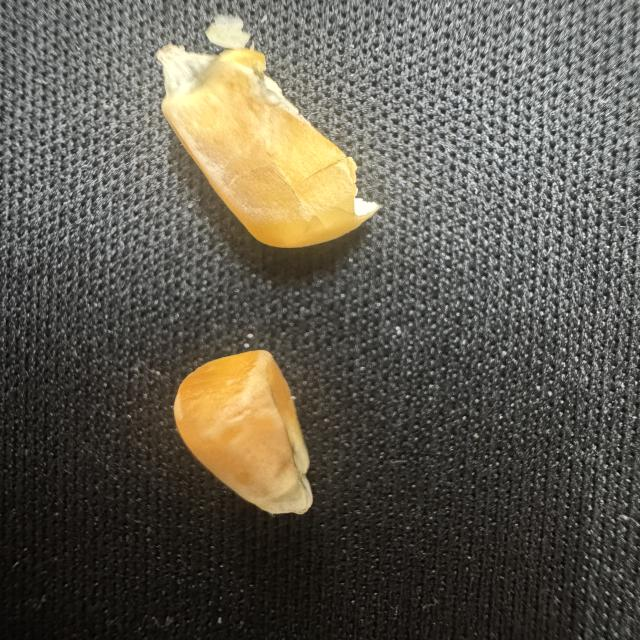Bad-Seed: (153, 13, 394, 254), (148, 338, 340, 520)
